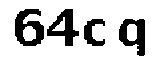4: (46, 6, 79, 52)
6: (10, 4, 46, 49)
c: (82, 17, 109, 47)
q: (118, 16, 149, 59)
